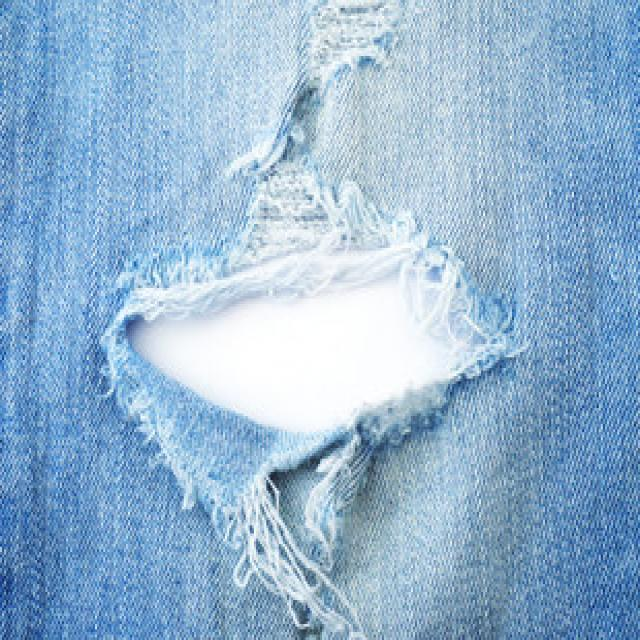Hole: (104, 166, 518, 529), (261, 60, 362, 184), (309, 0, 404, 86)
